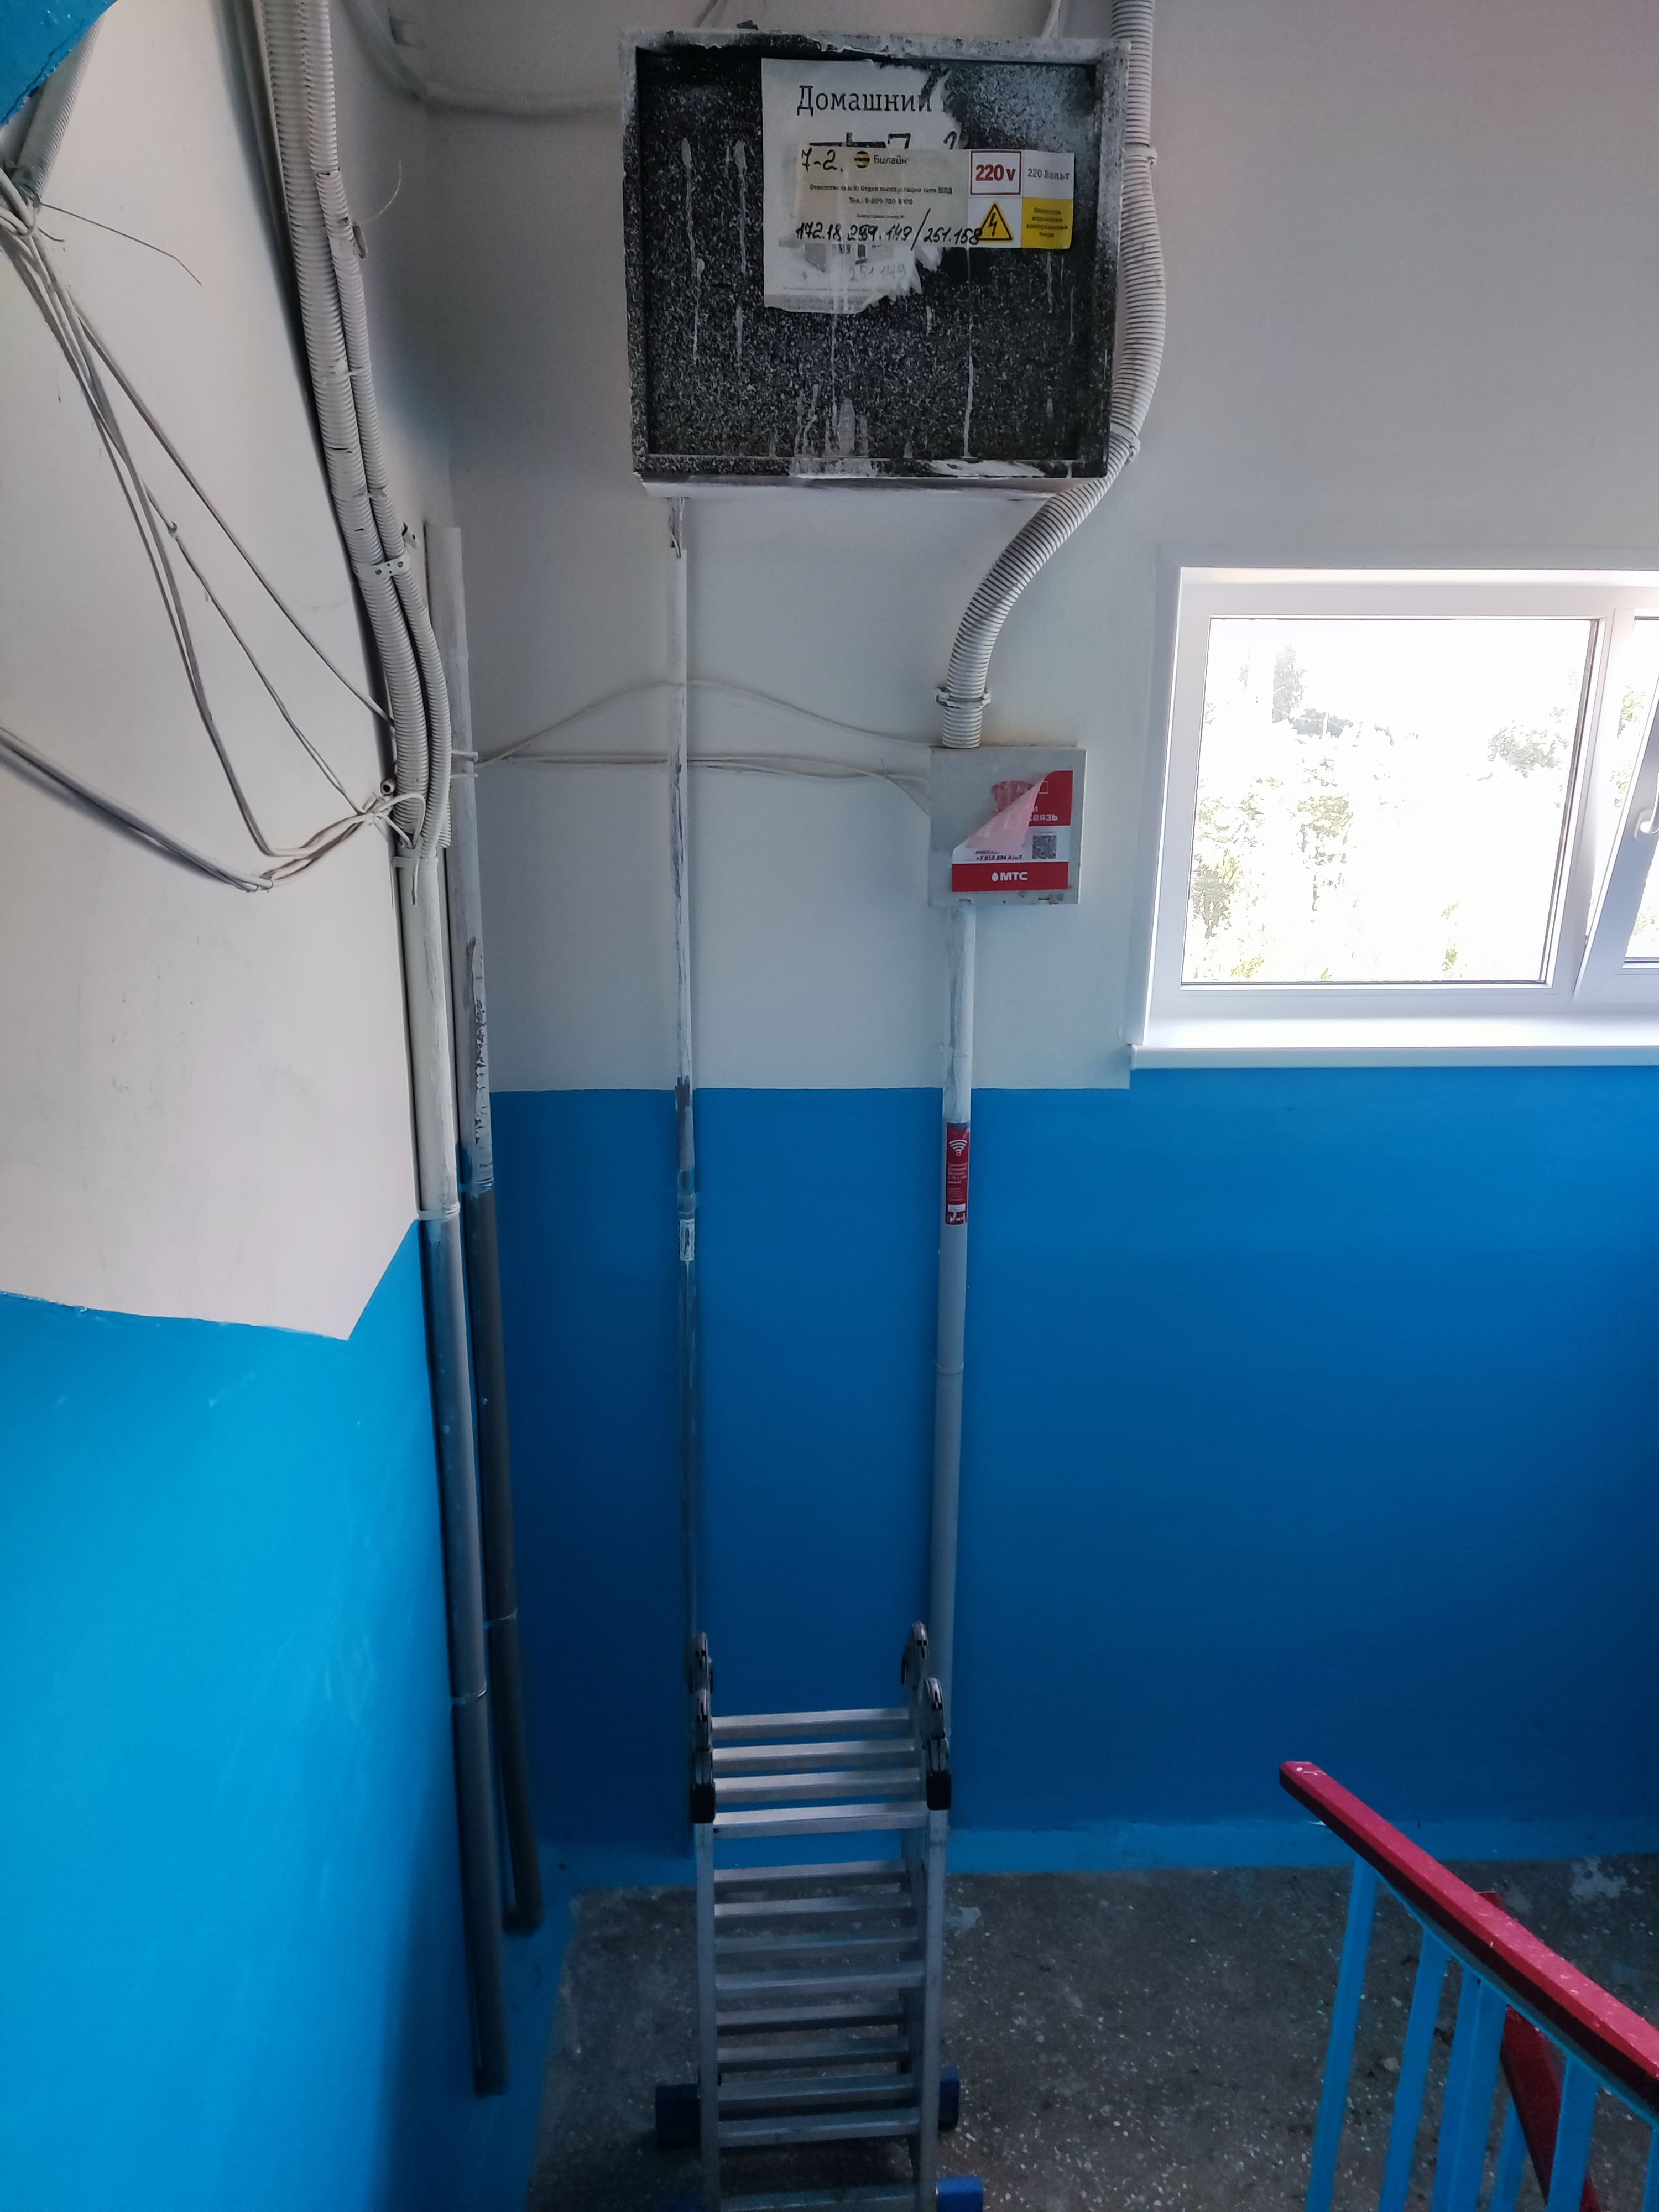shta-9m: (612, 17, 1129, 493)
